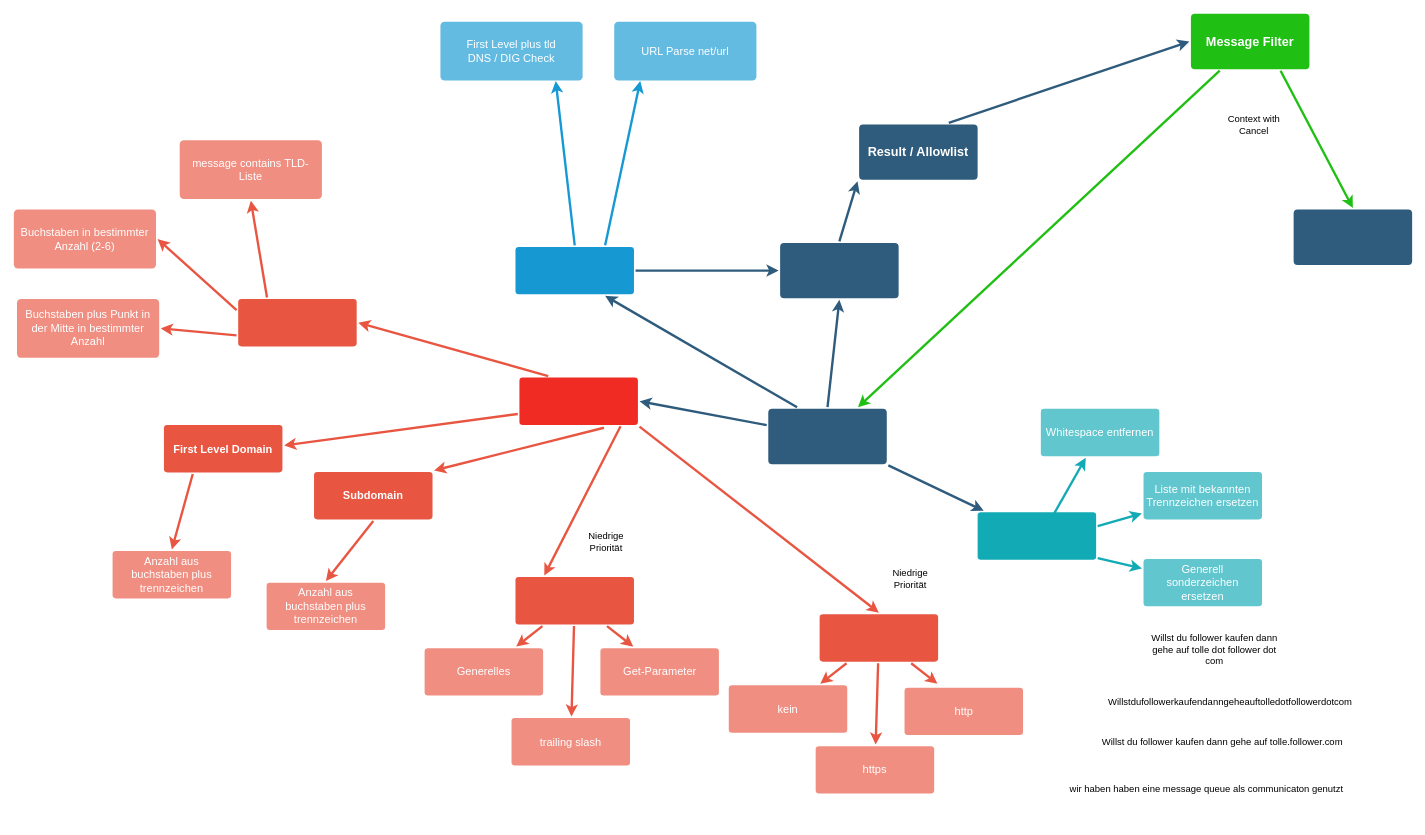
Image size: 1425x835. Some labels were removed from this diagram. The shapes that lost their labels are listed below. From the top down, each one's centre as x and y in pixels, then its label:
(x=1352, y=236): Denylist / Wordlist / Termlist
(x=574, y=270): Validation
(x=839, y=270): Gewichtung
(x=297, y=322): TLD
(x=578, y=401): Detection
(x=827, y=436): Url Detection
(x=1036, y=535): Verschleierung aggregieren
(x=574, y=600): Pfad
(x=878, y=637): Protokoll
